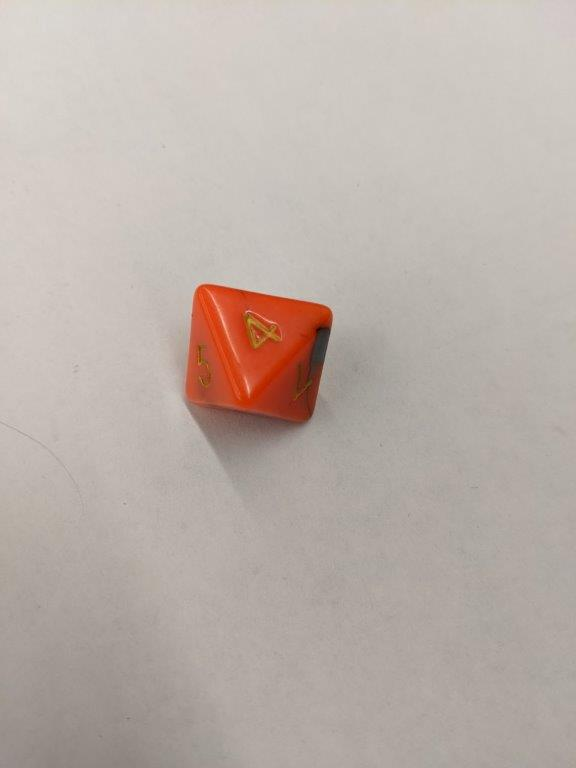d8-4: (184, 281, 335, 428)
